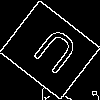U: (25, 25, 81, 84)
